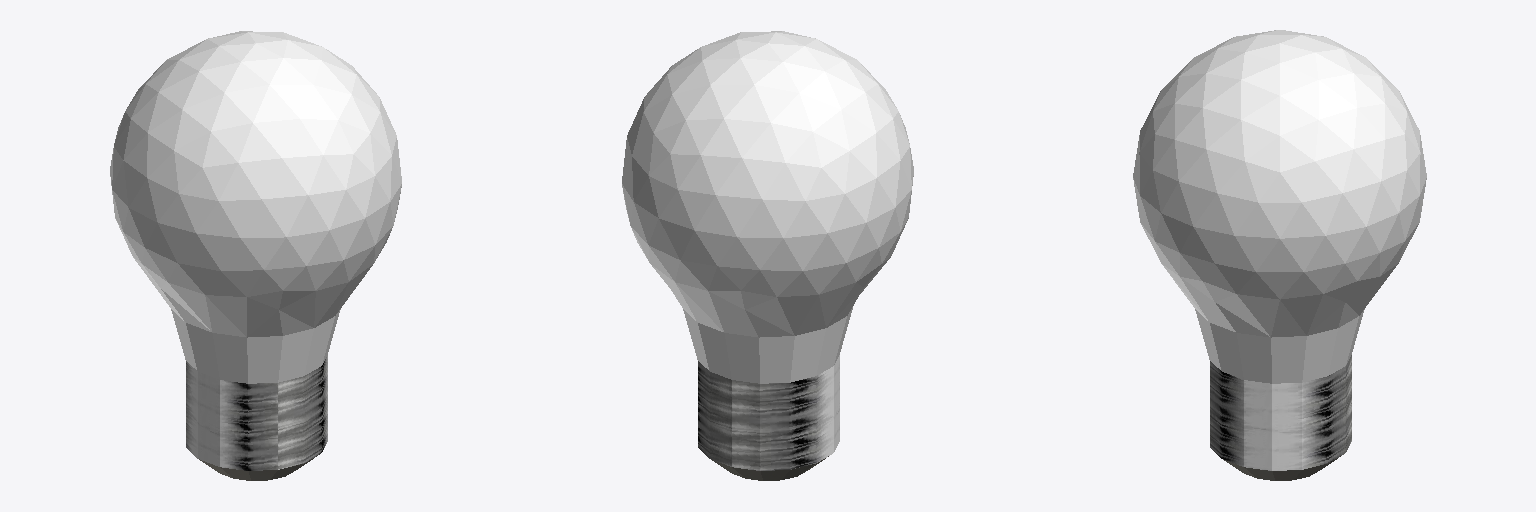
3 renders of one model, left to right at view 1: azimuth 30°, elevation 25°; view 2: azimuth 150°, elevation 25°; view 3: azimuth 270°, elevation 25°, orthographic.
Visible parts, largest first — view 1: Icosphere; view 2: Icosphere; view 3: Icosphere.
Boxes of the visible parts, x1,y1,x2,y2 form: Icosphere: [110, 31, 401, 480]; Icosphere: [622, 31, 913, 480]; Icosphere: [1133, 30, 1426, 480].
Size of the model in its own units: 2 by 3.19 by 2.
Materials: 1 (1 with a texture image).